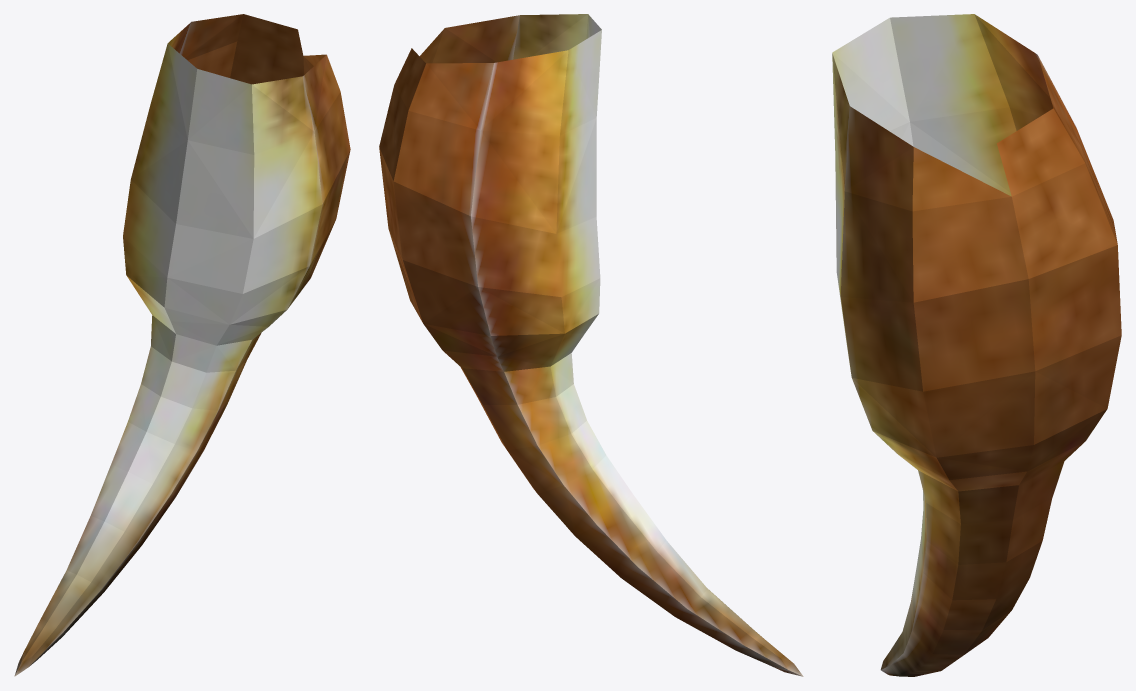
File: CrabPie_4_Izq.obj
The picture shows the model from 3 angles, left to right: view 1: azimuth 30°, elevation 25°; view 2: azimuth 150°, elevation 25°; view 3: azimuth 270°, elevation 25°; orthographic projection. The views are drawn at different scales.
Parts seen in each view (by area): view 1: CrabPie_4_Izq:polySurface27; view 2: CrabPie_4_Izq:polySurface27; view 3: CrabPie_4_Izq:polySurface27.
Part boxes in pixels (box(x1,y1,x2,y2)): CrabPie_4_Izq:polySurface27: box(14, 14, 350, 676); CrabPie_4_Izq:polySurface27: box(379, 14, 803, 676); CrabPie_4_Izq:polySurface27: box(832, 14, 1121, 676).
Bounding box in the file's own units: 0.1992 × 0.3088 × 0.1035.
1 material, 1 textured.
